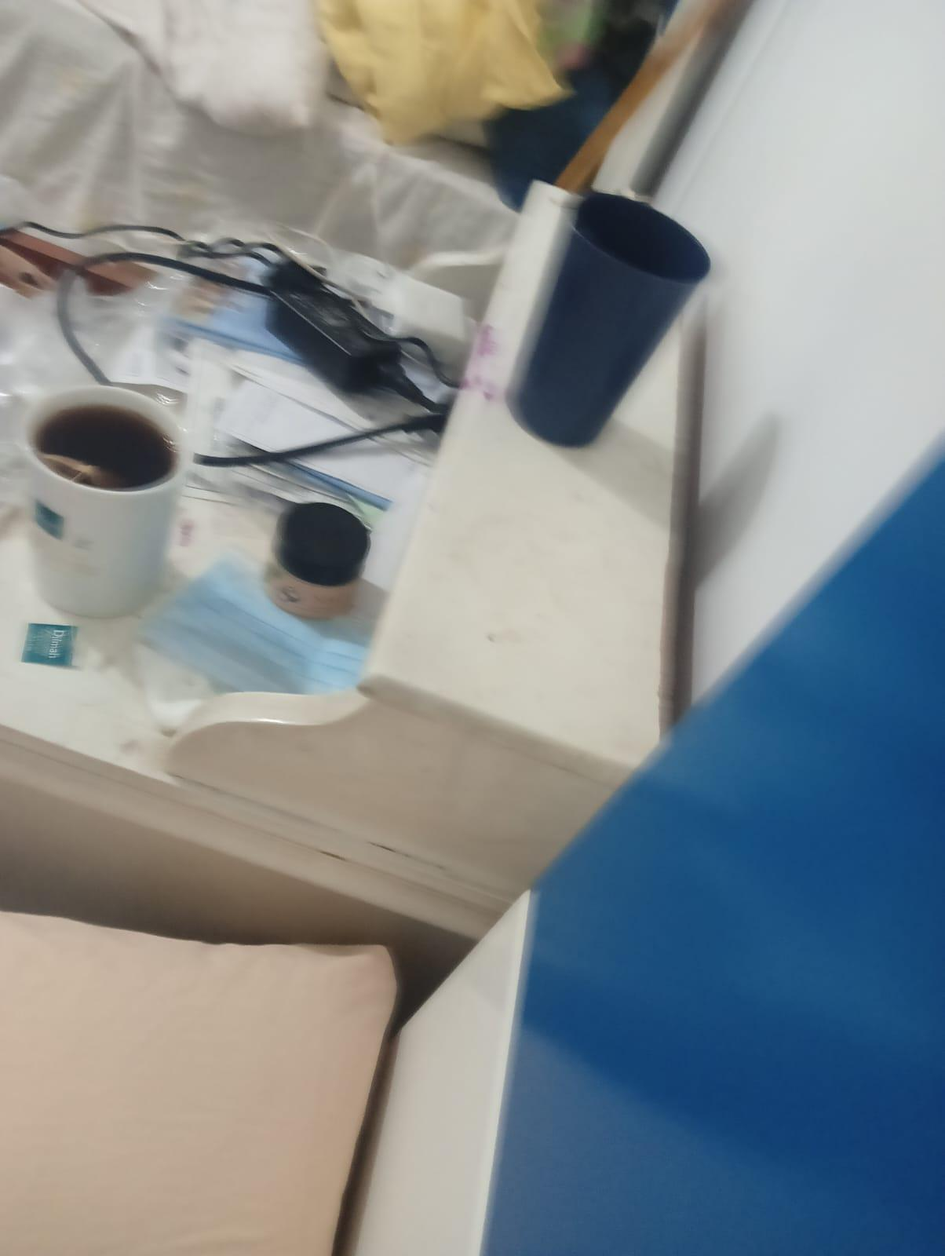cup: (24, 385, 188, 617), (33, 387, 179, 495)
